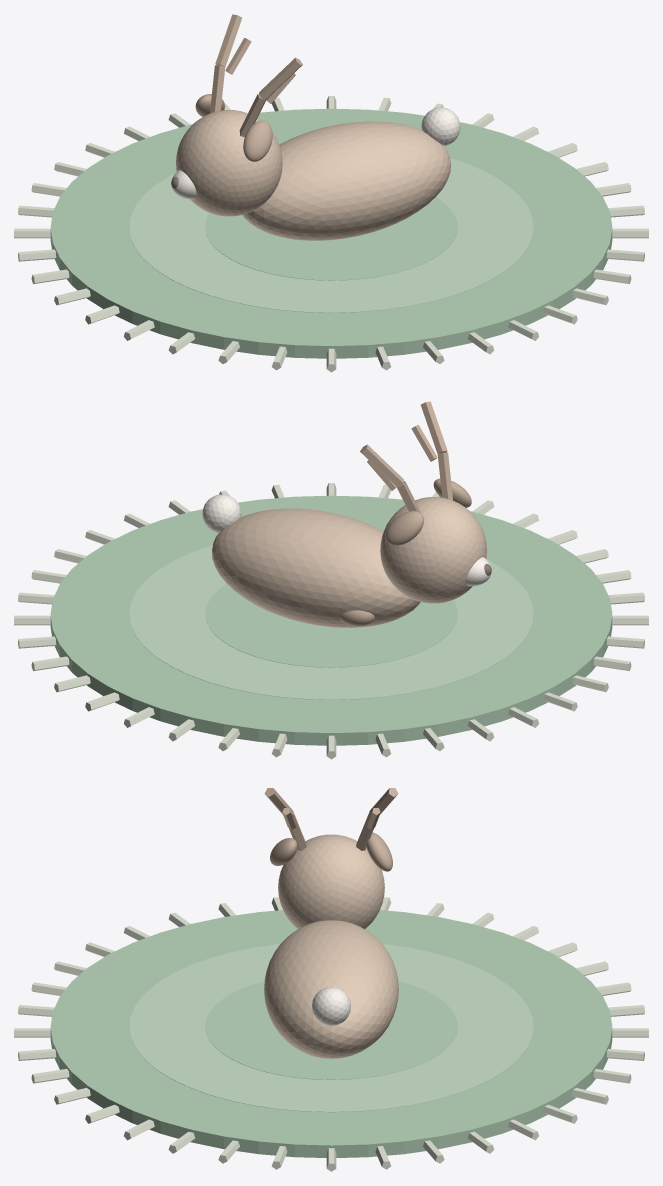
The model's file is C06-rug-deer.glb.
3 renders of one model, top to bottom at view 1: azimuth 30°, elevation 25°; view 2: azimuth 150°, elevation 25°; view 3: azimuth 270°, elevation 25°, orthographic.
Visible parts, largest first — view 1: rug, rug_inner, deer_body, rug_core, deer_head, antler1a, deer_tail, antler-1a, deer_ear-1; view 2: rug, rug_inner, deer_body, rug_core, deer_head, antler-1a, deer_tail, deer_ear1, antler1a; view 3: rug, rug_inner, deer_body, rug_core, deer_head, deer_tail, deer_ear1, antler1a, antler-1a, deer_ear-1.
Boxes of the visible parts, x1=… form: rug: x1=50, y1=108, x2=612, y2=358; rug_inner: x1=129, y1=158, x2=533, y2=312; deer_body: x1=242, y1=121, x2=450, y2=240; rug_core: x1=205, y1=197, x2=457, y2=280; deer_head: x1=176, y1=110, x2=282, y2=216; antler1a: x1=210, y1=14, x2=241, y2=113; deer_tail: x1=421, y1=107, x2=460, y2=145; antler-1a: x1=239, y1=57, x2=302, y2=137; deer_ear-1: x1=243, y1=120, x2=272, y2=161; rug: x1=50, y1=495, x2=612, y2=745; rug_inner: x1=129, y1=545, x2=533, y2=699; deer_body: x1=212, y1=508, x2=420, y2=627; rug_core: x1=205, y1=584, x2=457, y2=667; deer_head: x1=380, y1=497, x2=486, y2=603; antler-1a: x1=421, y1=401, x2=452, y2=500; deer_tail: x1=202, y1=494, x2=241, y2=532; deer_ear1: x1=386, y1=511, x2=423, y2=545; antler1a: x1=360, y1=444, x2=421, y2=513; rug: x1=50, y1=910, x2=612, y2=1157; rug_inner: x1=129, y1=944, x2=533, y2=1112; deer_body: x1=264, y1=920, x2=398, y2=1058; rug_core: x1=205, y1=981, x2=457, y2=1079; deer_head: x1=278, y1=834, x2=384, y2=928; deer_tail: x1=312, y1=987, x2=350, y2=1025; deer_ear1: x1=366, y1=832, x2=392, y2=871; antler1a: x1=356, y1=788, x2=398, y2=850; antler-1a: x1=264, y1=788, x2=306, y2=850; deer_ear-1: x1=270, y1=838, x2=297, y2=865.
Bounding box in the file's own units: 2.26 × 0.8647 × 2.26.
